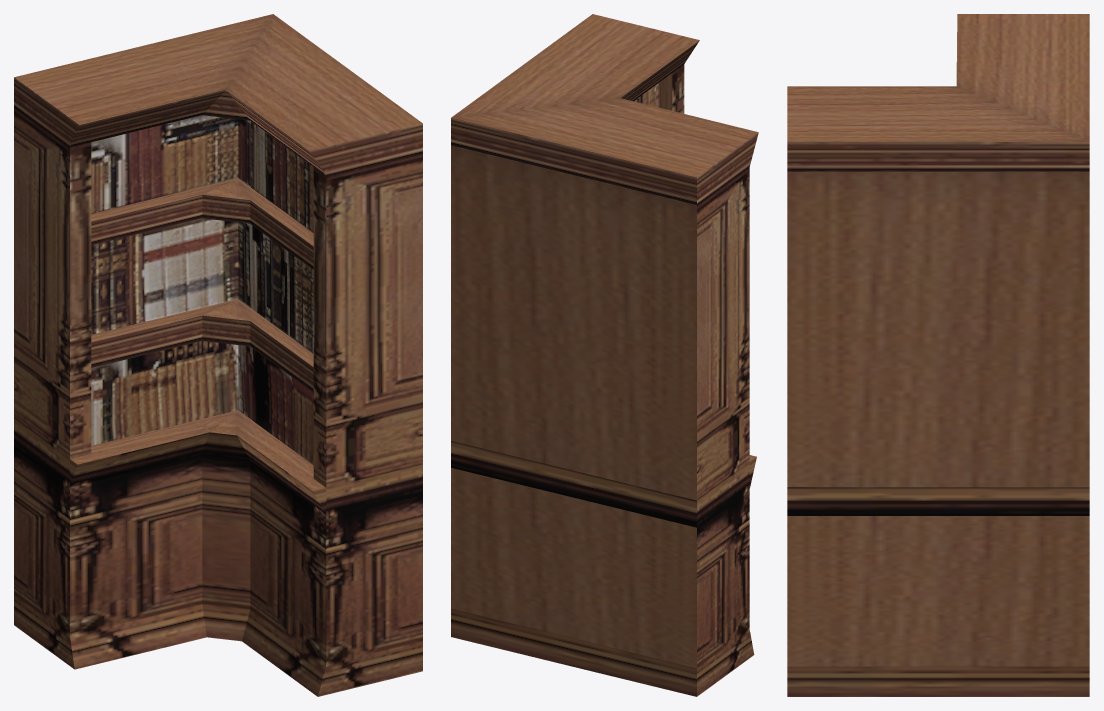
Rendered from Bcase03.glb.
3 views of the same model, side by side, from view 1: azimuth 30°, elevation 25°; view 2: azimuth 150°, elevation 25°; view 3: azimuth 270°, elevation 25° (orthographic). The views are drawn at different scales.
Visible parts, largest first — view 1: _Bcase03; view 2: _Bcase03; view 3: _Bcase03.
Boxes of the visible parts, x1=… form: _Bcase03: x1=14, y1=14, x2=422, y2=696; _Bcase03: x1=451, y1=14, x2=758, y2=696; _Bcase03: x1=787, y1=14, x2=1089, y2=696.
Bounding box in the file's own units: 1.59 × 3.21 × 1.59.
1 material, 1 textured.
